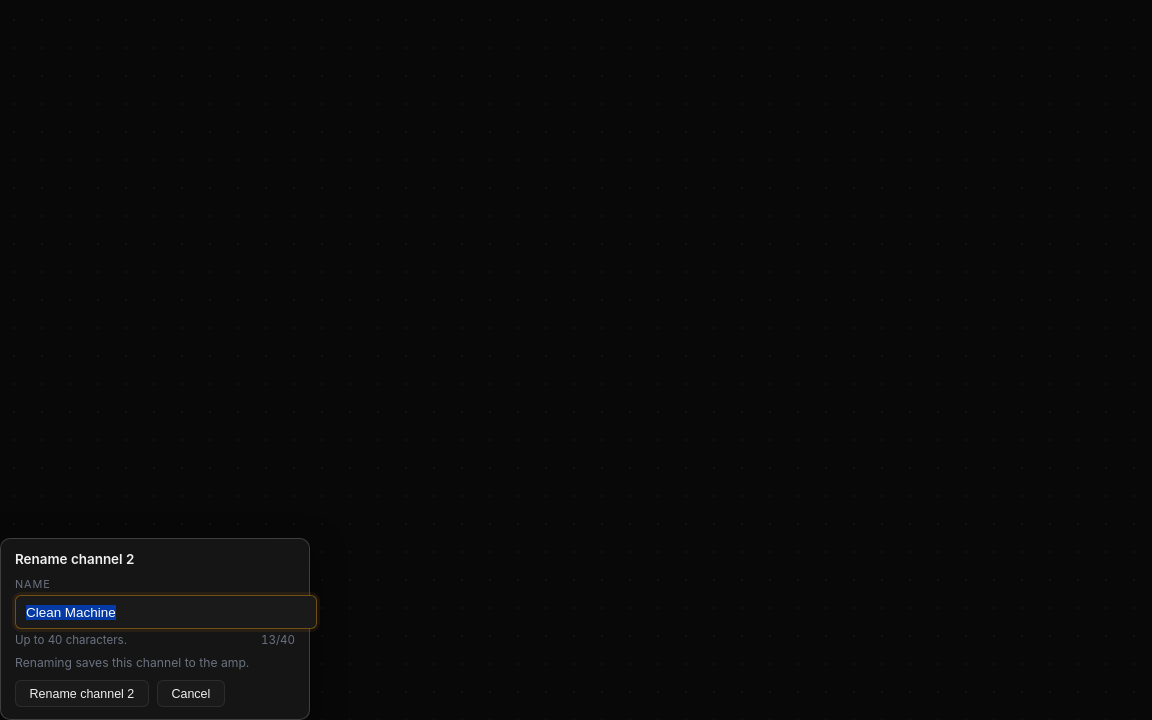
Test: rename popover › channel mode › shows the unconfirmed result
(page scrolled)
Replace the text in the field labelled "Name" with "New Name": (166, 612) top-left (15, 595), bottom-right (317, 629)
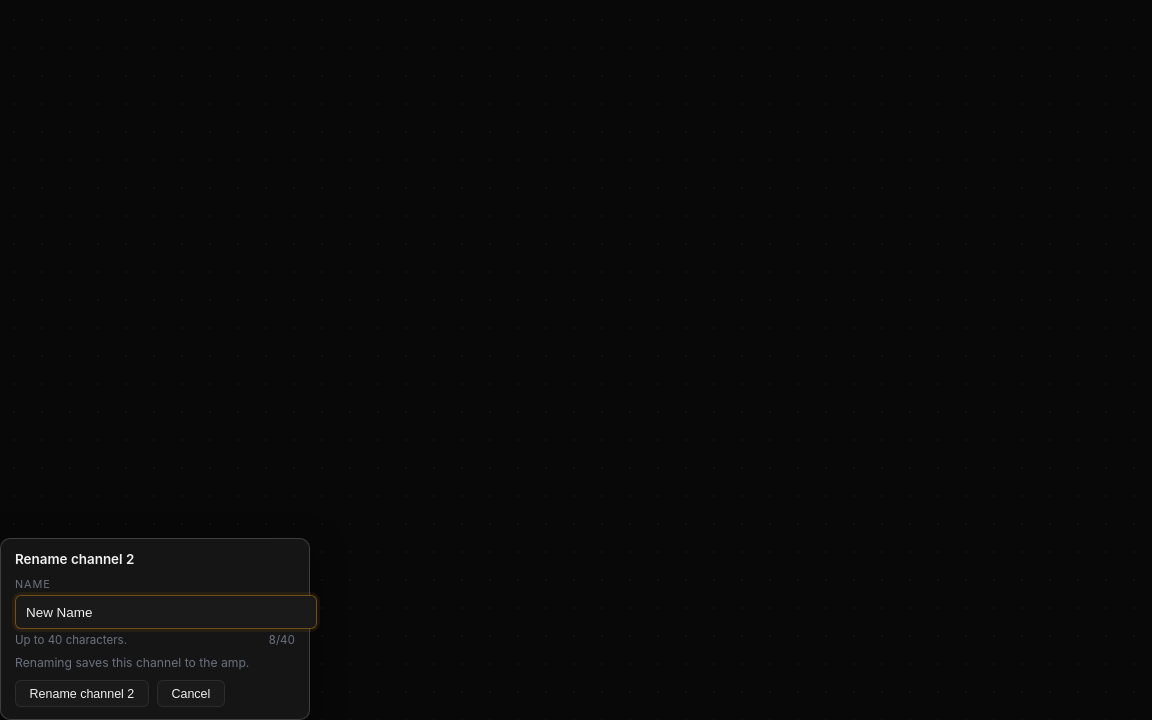
Click the button "Rename channel 2": (82, 694) top-left (15, 680), bottom-right (149, 707)
(page scrolled)
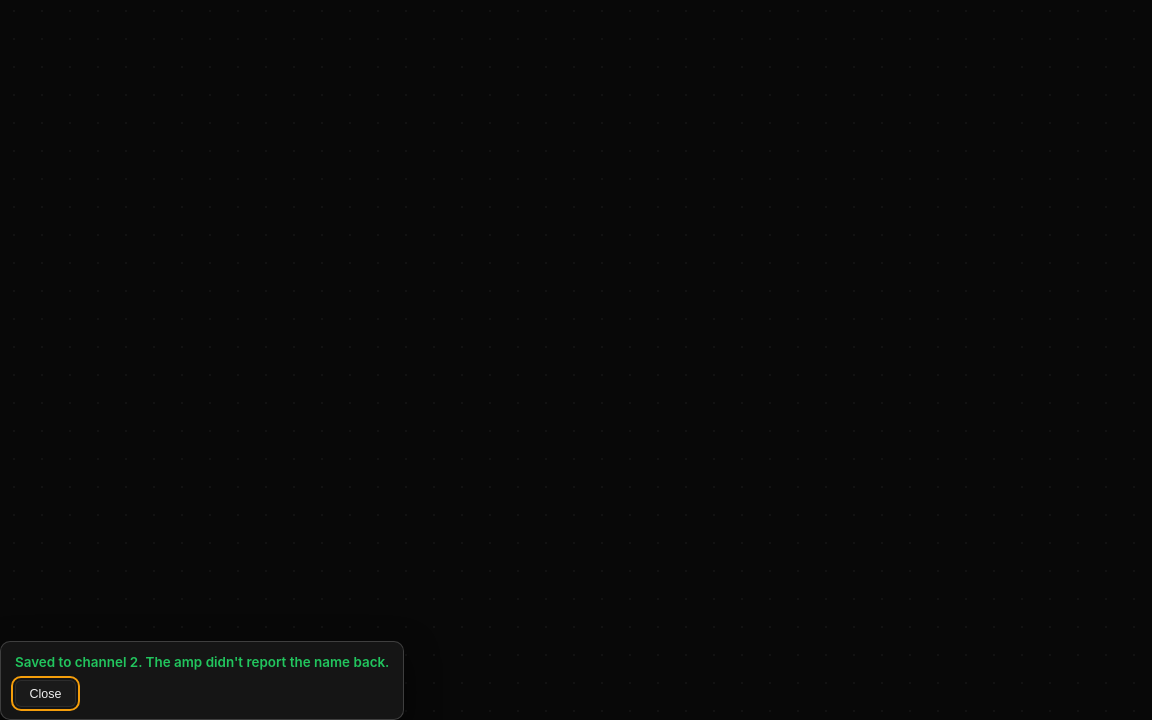
Now the message reads "Saved to channel 2. The amp didn't report the name back.", box top-left (15, 654), bottom-right (389, 670)
